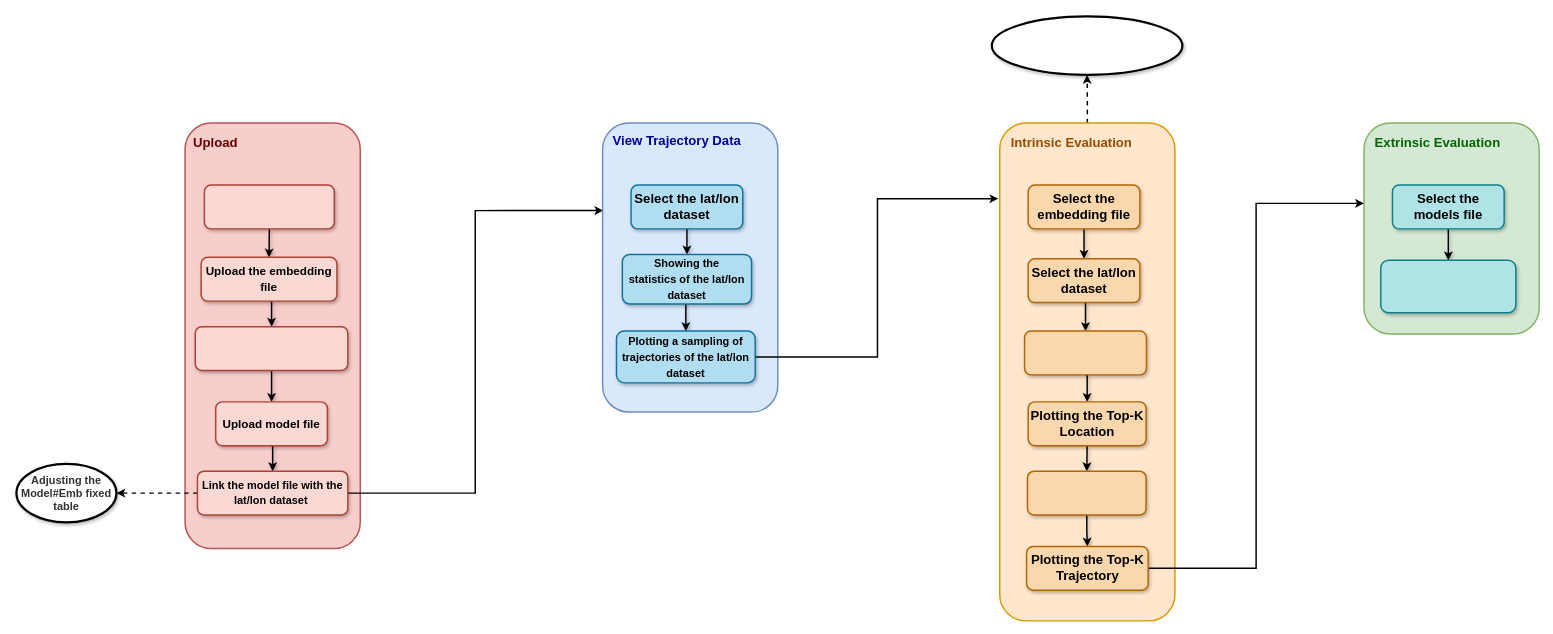
This 1553x634 diagram has some shape labels left out. Each missing label, with the centre of its shape:
Generate the Road Matrix if it doesn't exist: [1087,46]
Link the embedding file with the lat/lon dataset: [272,349]
Plotting the MRR Location: [1086,353]
Plotting the MRR Trajectories: [1087,493]
Showing the acuracies of each model file: [1449,287]
Upload the lat/lon dataset: [269,207]
